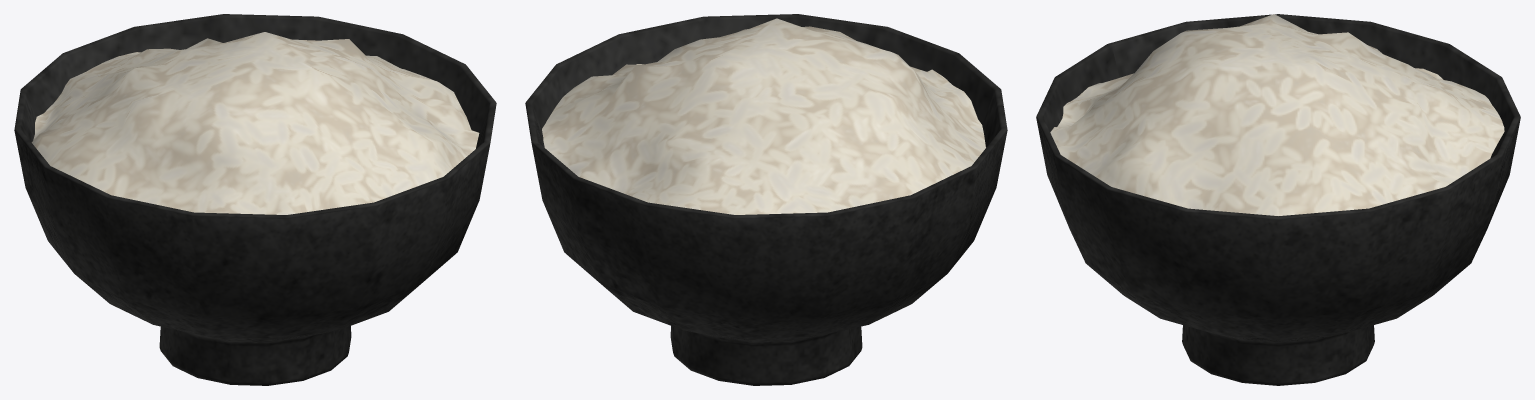
Rendered from Rice.fbx.
3 renders of one model, left to right at view 1: azimuth 30°, elevation 25°; view 2: azimuth 150°, elevation 25°; view 3: azimuth 270°, elevation 25°, orthographic.
Visible parts, largest first — view 1: Rice; view 2: Rice; view 3: Rice.
Part boxes in pixels (x1,y1,x2,y2): Rice: (14,14,496,385); Rice: (525,14,1007,385); Rice: (1036,14,1520,385).
Size of the model in its own units: 0.1421 by 0.0959 by 0.1421.
